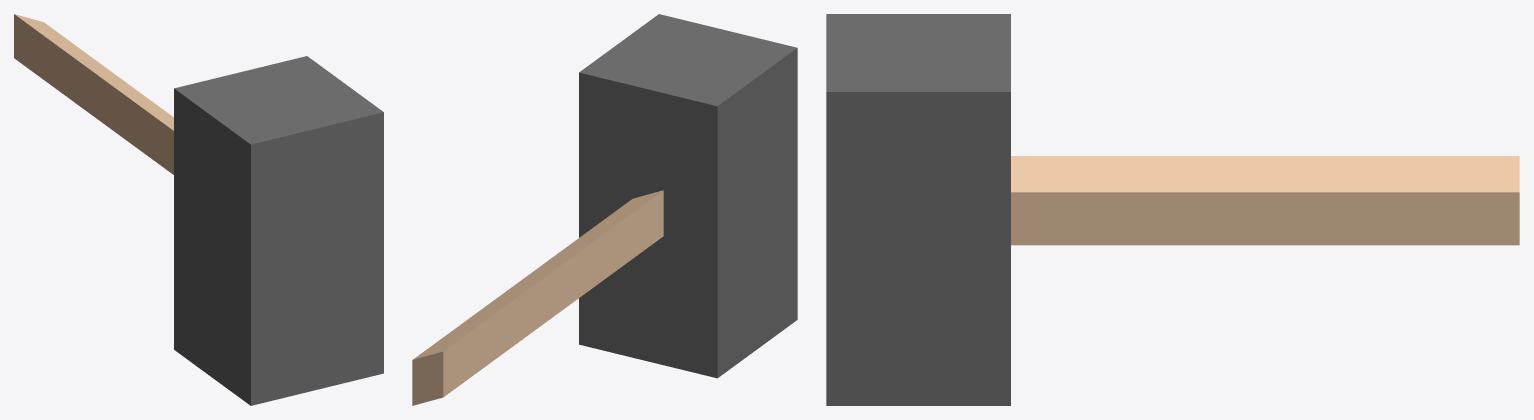
Rendered from hamer.fbx.
The picture shows the model from 3 angles, left to right: view 1: azimuth 30°, elevation 25°; view 2: azimuth 150°, elevation 25°; view 3: azimuth 270°, elevation 25°; orthographic projection. The views are drawn at different scales.
Parts seen in each view (by area): view 1: 立方体; view 2: 立方体; view 3: 立方体.
Boxes of the visible parts, x1,y1,x2,y2 form: 立方体: [14, 14, 383, 405]; 立方体: [412, 14, 797, 405]; 立方体: [826, 14, 1519, 405].
Size of the model in its own units: 200 by 375 by 751.
